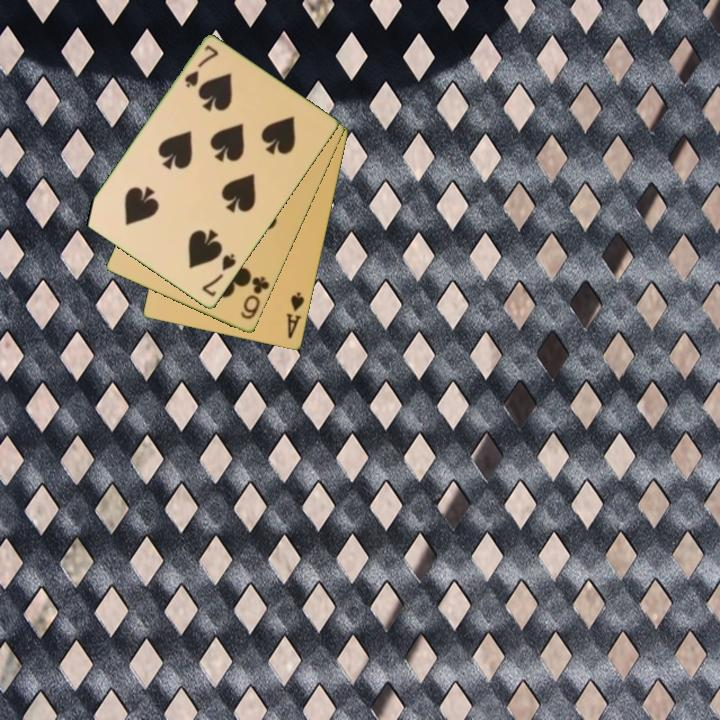6c: (237, 273, 273, 323)
7s: (198, 250, 239, 300), (181, 42, 221, 91)
As: (283, 289, 308, 342)
